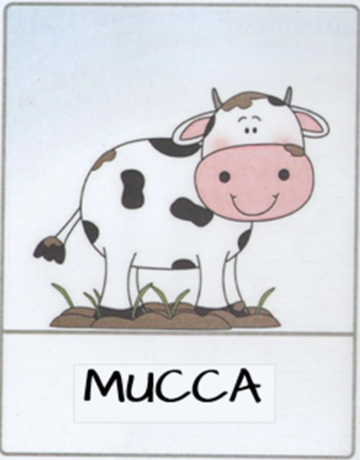mucca: (10, 24, 346, 439)
